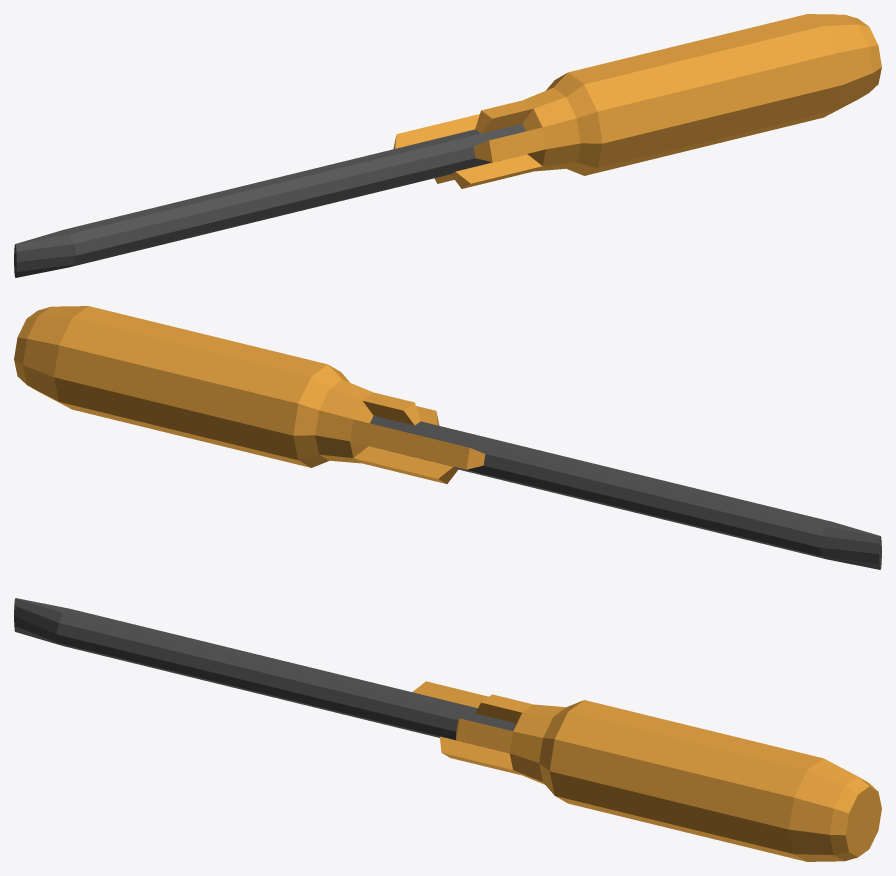
File: Screwdriver.fbx
3 renders of one model, top to bottom at view 1: azimuth 30°, elevation 25°; view 2: azimuth 150°, elevation 25°; view 3: azimuth 330°, elevation 25°, orthographic.
Visible parts, largest first — view 1: Cylinder; view 2: Cylinder; view 3: Cylinder.
Boxes of the visible parts, <box> form: Cylinder: <box>14,14,881,277</box>; Cylinder: <box>14,306,881,569</box>; Cylinder: <box>14,598,881,861</box>.
Size of the model in its own units: 390 by 40.26 by 42.33.
